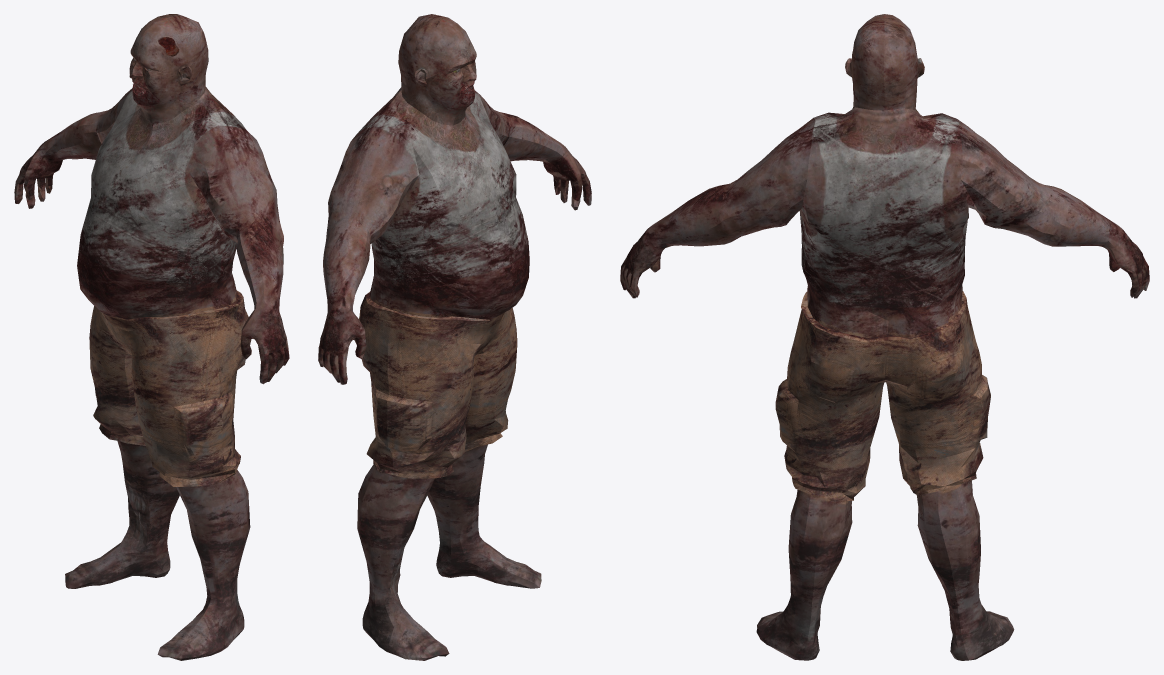
Rendered from Heavy Zombie.fbx.
3 renders of one model, left to right at view 1: azimuth 30°, elevation 25°; view 2: azimuth 150°, elevation 25°; view 3: azimuth 270°, elevation 25°, orthographic. The views are drawn at different scales.
Parts seen in each view (by area): view 1: Body, L_Arm, Head, R_Arm; view 2: Body, R_Arm, Head, L_Arm; view 3: Body, L_Arm, R_Arm, Head.
Boxes of the visible parts, x1=… form: Body: x1=65, y1=87, x2=253, y2=660; L_Arm: x1=187, y1=125, x2=289, y2=384; Head: x1=129, y1=14, x2=208, y2=123; R_Arm: x1=14, y1=88, x2=132, y2=208; Body: x1=351, y1=87, x2=541, y2=660; R_Arm: x1=318, y1=127, x2=419, y2=384; Head: x1=398, y1=14, x2=476, y2=125; L_Arm: x1=475, y1=90, x2=591, y2=210; Body: x1=756, y1=107, x2=1014, y2=660; L_Arm: x1=620, y1=117, x2=815, y2=298; R_Arm: x1=956, y1=119, x2=1149, y2=298; Head: x1=845, y1=14, x2=924, y2=110.
Size of the model in its own units: 0.654 by 2.5 by 1.91.
1 material, 1 textured.
